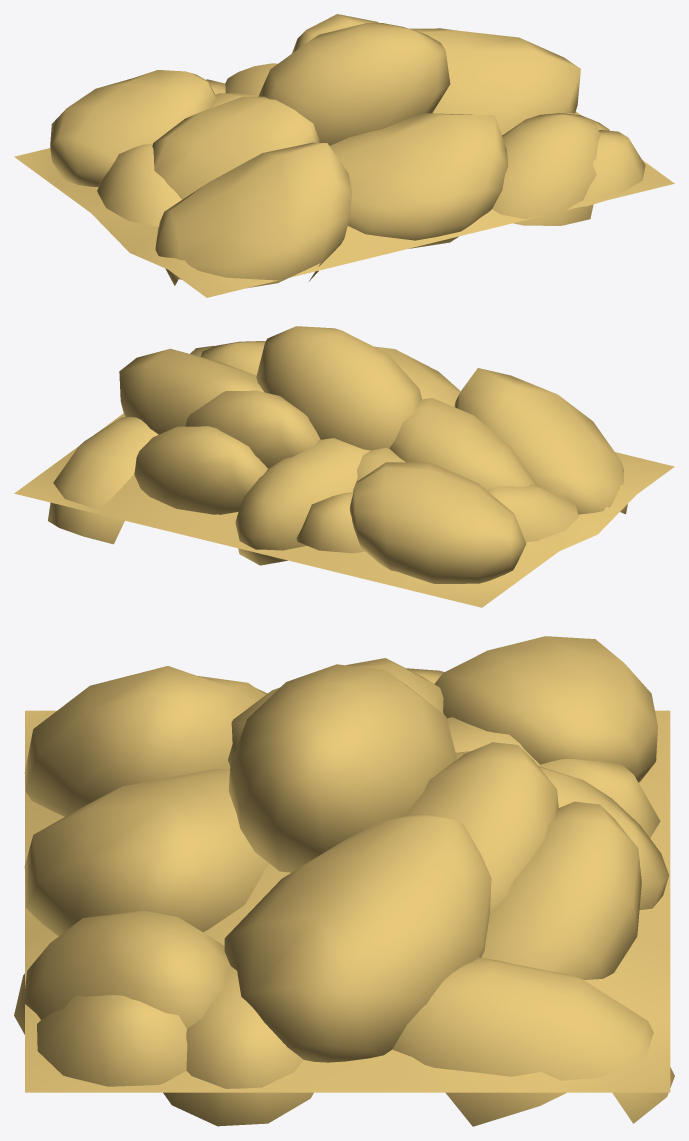
File: mesh_farmtruck_fullcrate01.fbx
The picture shows the model from 3 angles, top to bottom: view 1: azimuth 30°, elevation 25°; view 2: azimuth 150°, elevation 25°; view 3: azimuth 270°, elevation 25°; orthographic projection. The views are drawn at different scales.
Visible parts, largest first — view 1: mesh_farmtruck_fullcrate01; view 2: mesh_farmtruck_fullcrate01; view 3: mesh_farmtruck_fullcrate01.
Part boxes in pixels (x1,y1,x2,y2): mesh_farmtruck_fullcrate01: (14, 14, 674, 297); mesh_farmtruck_fullcrate01: (14, 326, 674, 607); mesh_farmtruck_fullcrate01: (14, 636, 674, 1126).
Size of the model in its own units: 0.9113 by 0.314 by 0.6663.
